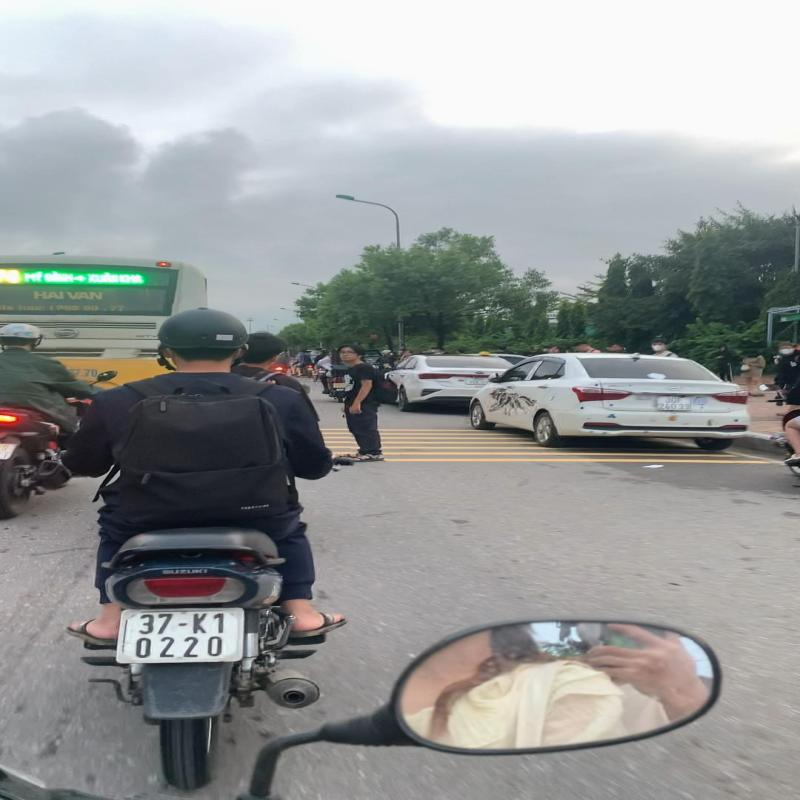helmet: (156, 306, 256, 367)
licenseplate: (114, 604, 251, 668)
motorcyclist: (57, 304, 352, 792)
